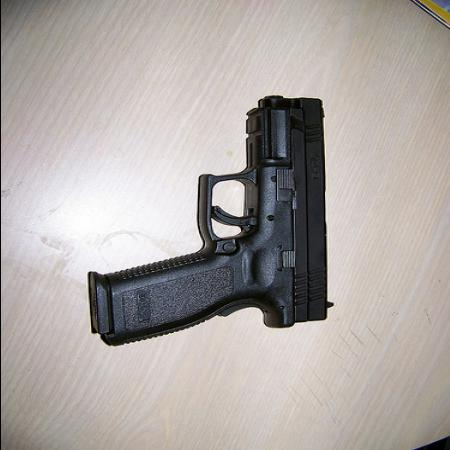Pistol: (82, 92, 332, 346)
